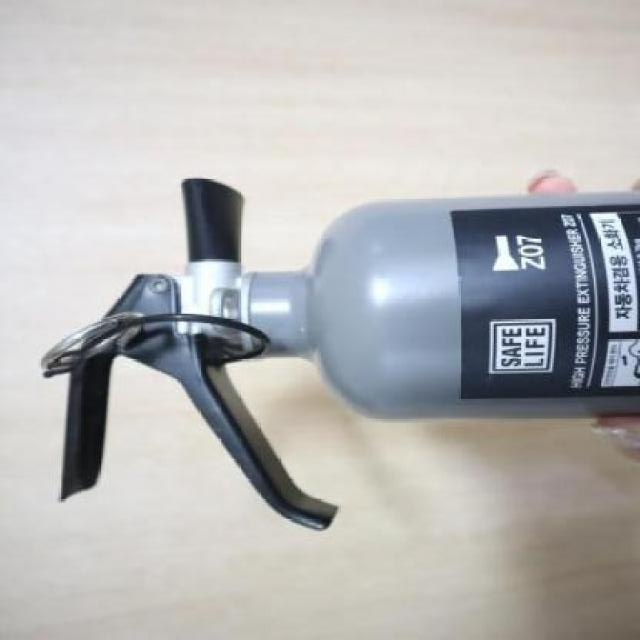fire extinguisher: (57, 177, 640, 531)
